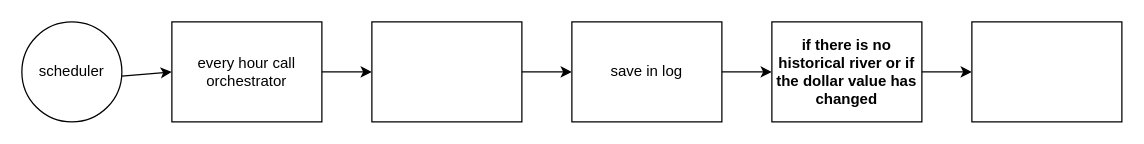
Some shapes in this 1144 by 144 pixel diagram are drawn without their labels. Here are the shapes that lost their labels. From the top down, the box of each, then its label:
(371, 21, 522, 122): get dollar exchange
(971, 21, 1122, 122): commit code
